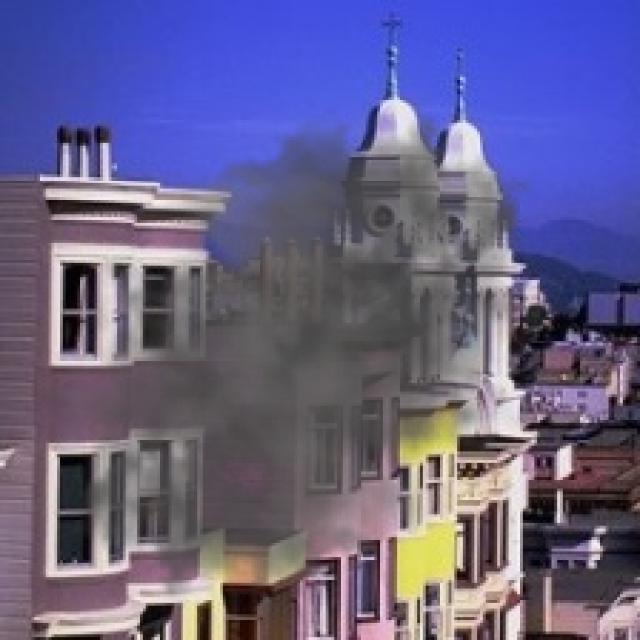smoke: (40, 80, 560, 634)
